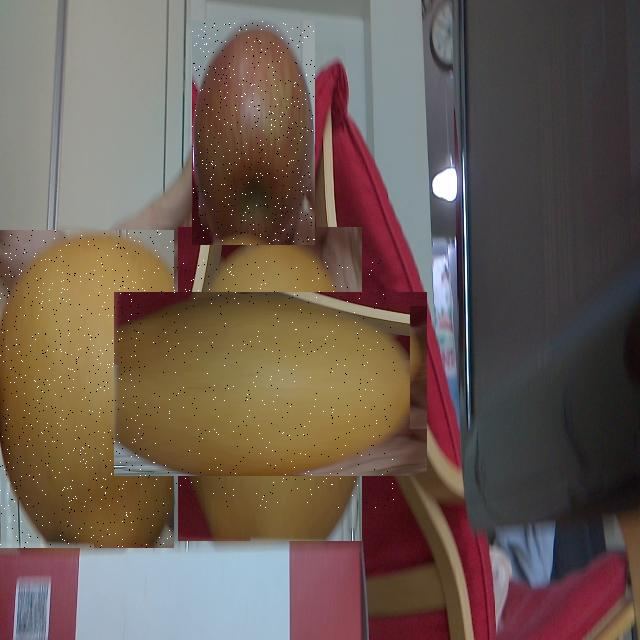apple: (192, 20, 315, 245)
pear: (145, 260, 395, 508), (0, 230, 174, 548)
